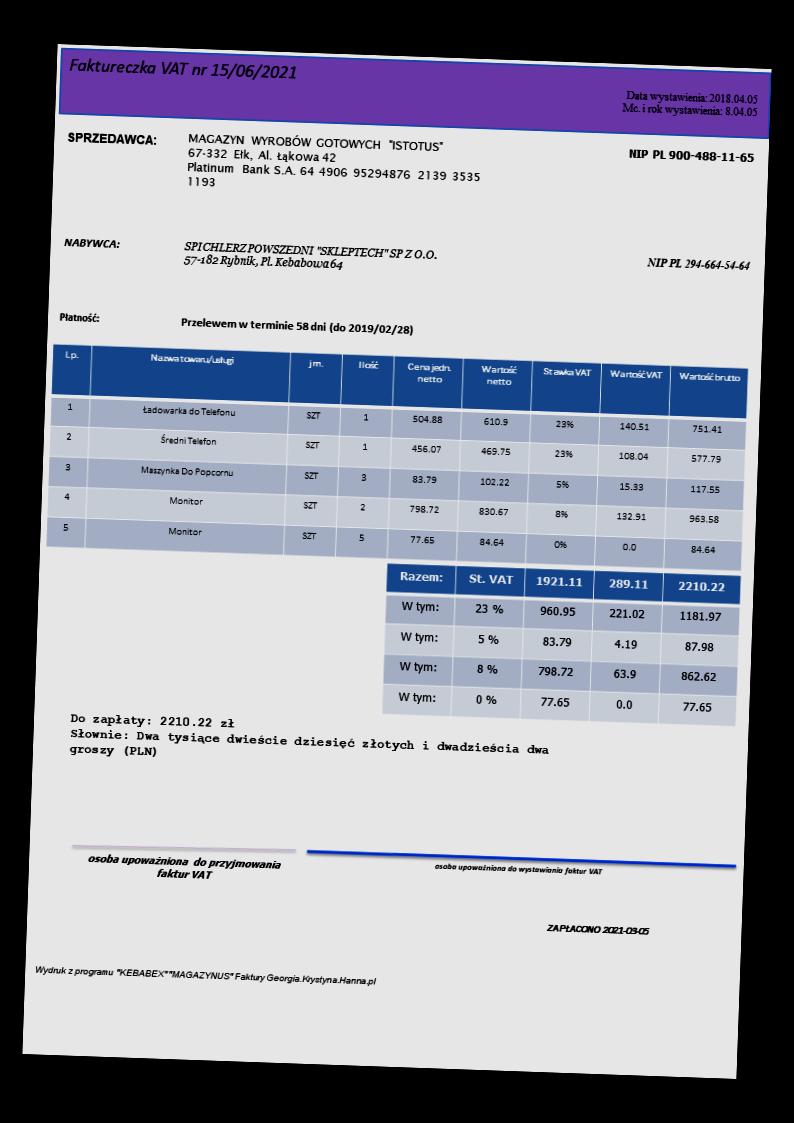Table: (44, 343, 750, 572), (381, 562, 742, 727)
TextBox: (67, 711, 553, 774), (184, 129, 484, 197), (182, 238, 439, 276), (32, 962, 379, 988), (85, 850, 284, 885), (67, 55, 298, 82), (179, 316, 414, 337), (621, 86, 760, 118), (432, 860, 604, 877), (625, 146, 755, 166), (65, 127, 159, 148), (645, 255, 751, 273), (544, 920, 650, 938), (61, 235, 122, 251), (58, 309, 101, 326)
